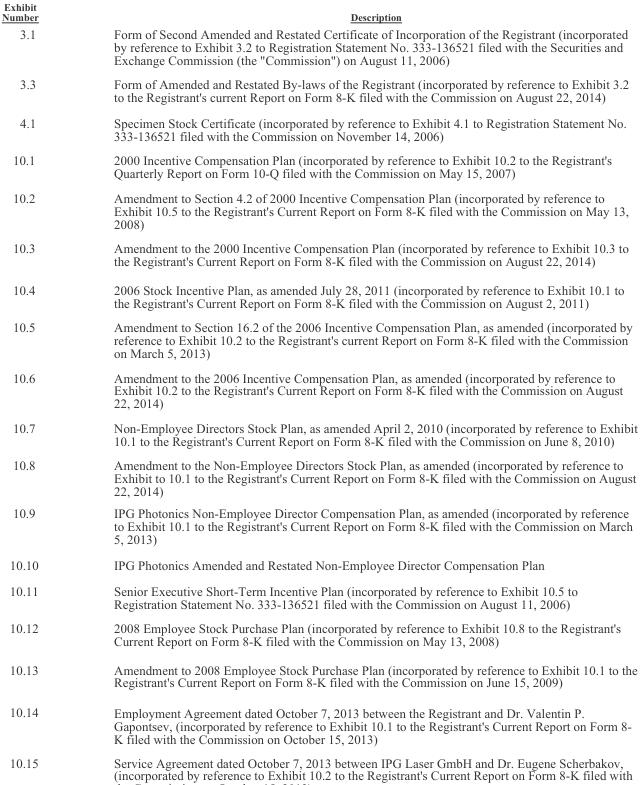table: (1, 0, 636, 782)
table column: (75, 0, 636, 782), (1, 0, 75, 782)
table column header: (1, 0, 636, 24)
table row: (1, 696, 636, 750), (1, 364, 636, 415), (1, 185, 636, 235), (1, 314, 636, 364), (1, 501, 636, 551), (1, 452, 636, 501), (1, 24, 636, 71), (1, 654, 636, 696), (1, 235, 636, 275), (1, 275, 636, 314), (1, 615, 636, 654), (1, 71, 636, 109), (1, 109, 636, 147), (1, 147, 636, 185), (1, 577, 636, 615), (1, 415, 636, 452), (1, 750, 636, 782), (1, 551, 636, 577), (1, 0, 636, 24)
